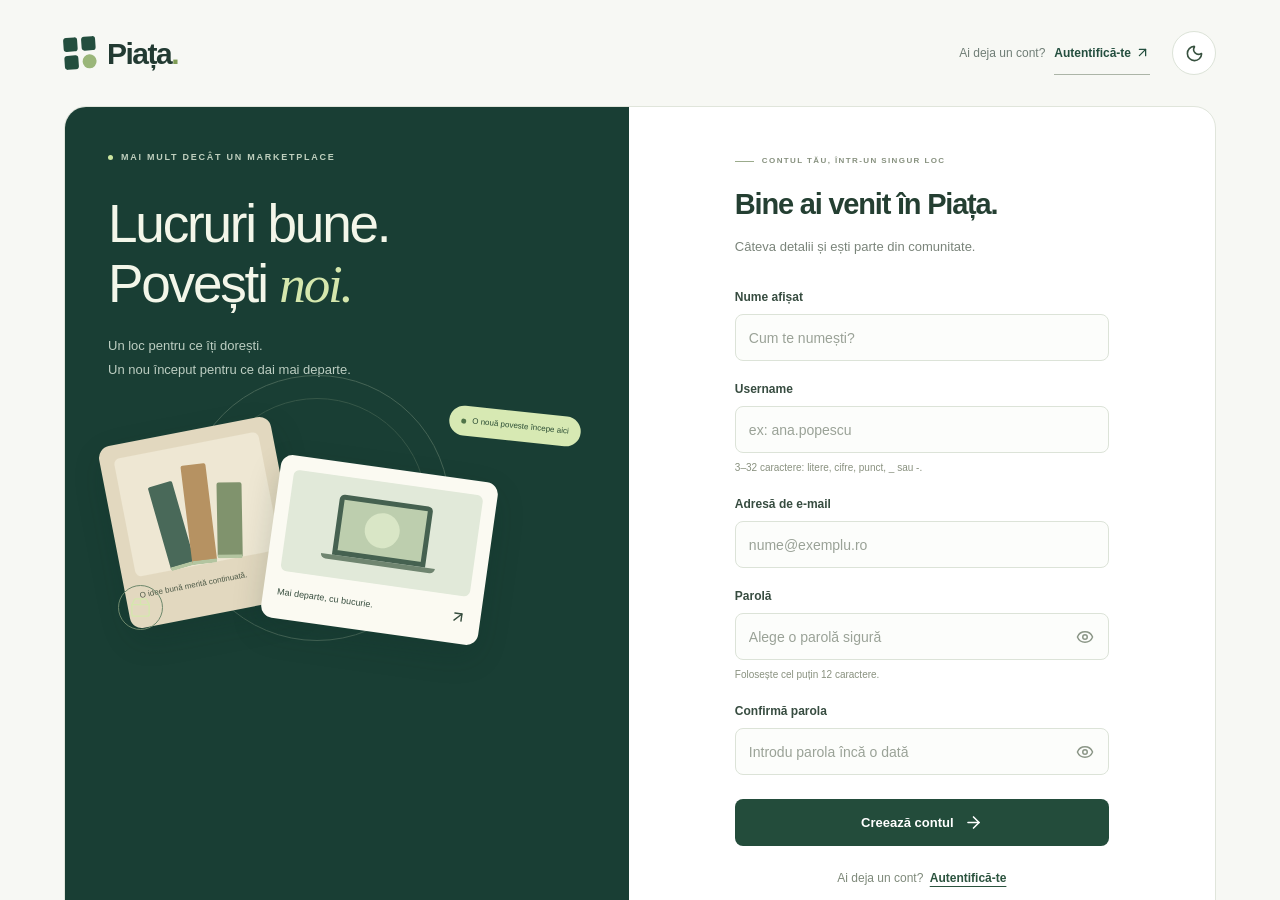
Scenario: authentication screens › registers without sending confirmation, then pre-fills the login username
Type "Ana" into the field labelled "Nume afișat" at (922, 338), box [735,314,1109,361]
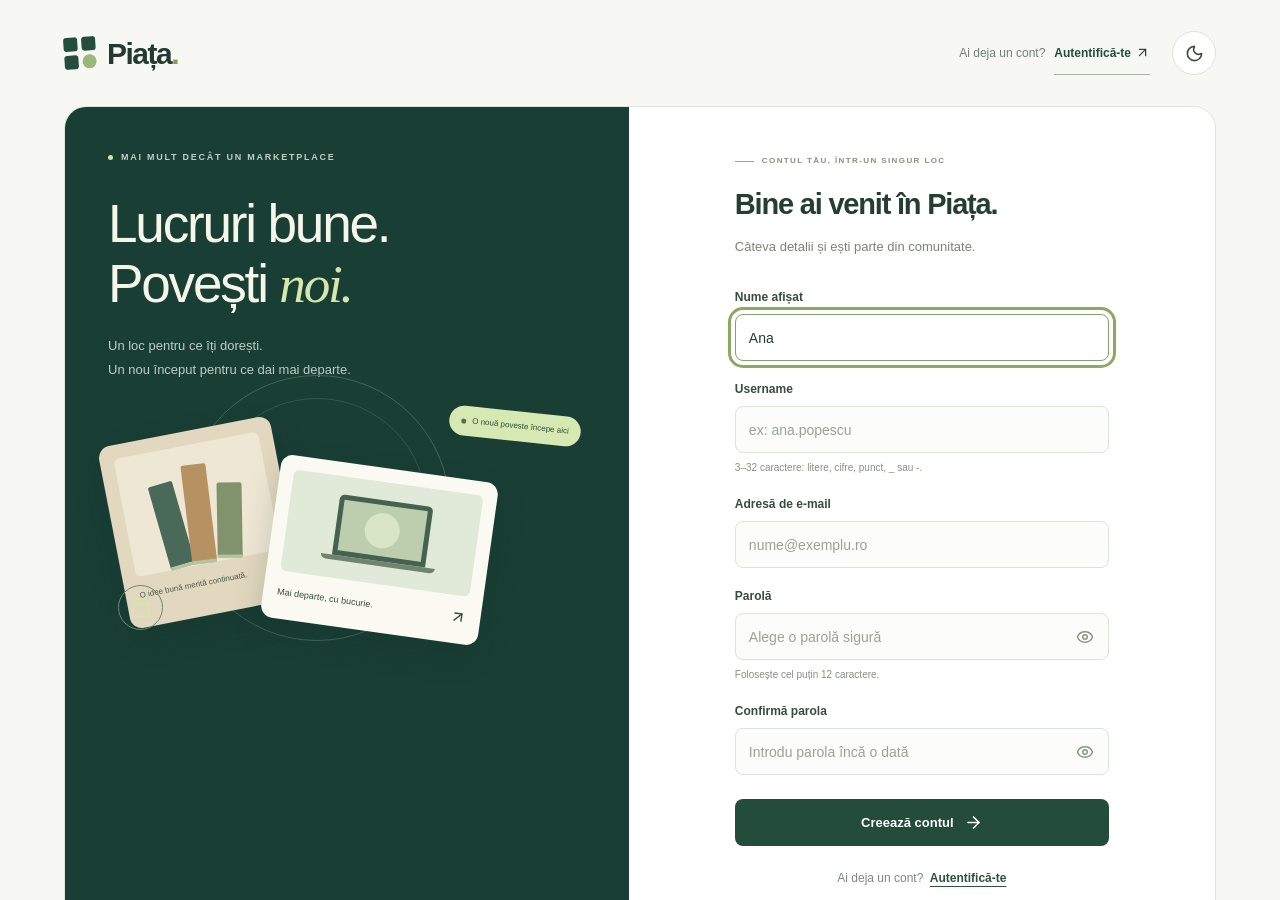
Type "ana.demo" into the field labelled "Username" at (922, 430), box [735,406,1109,453]
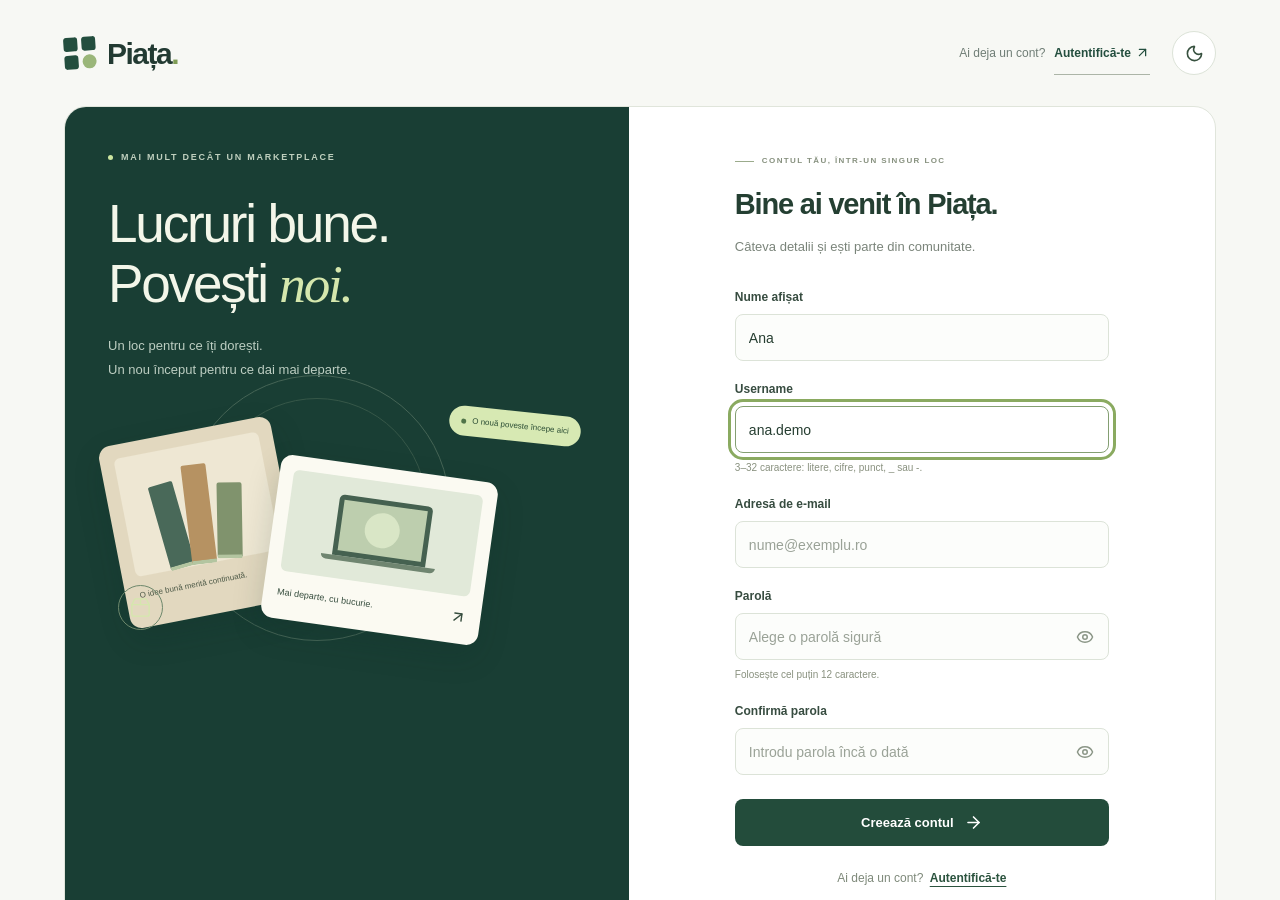
Type "seller@example.test" into the field labelled "Adresă de e-mail" at (922, 545), box [735,521,1109,568]
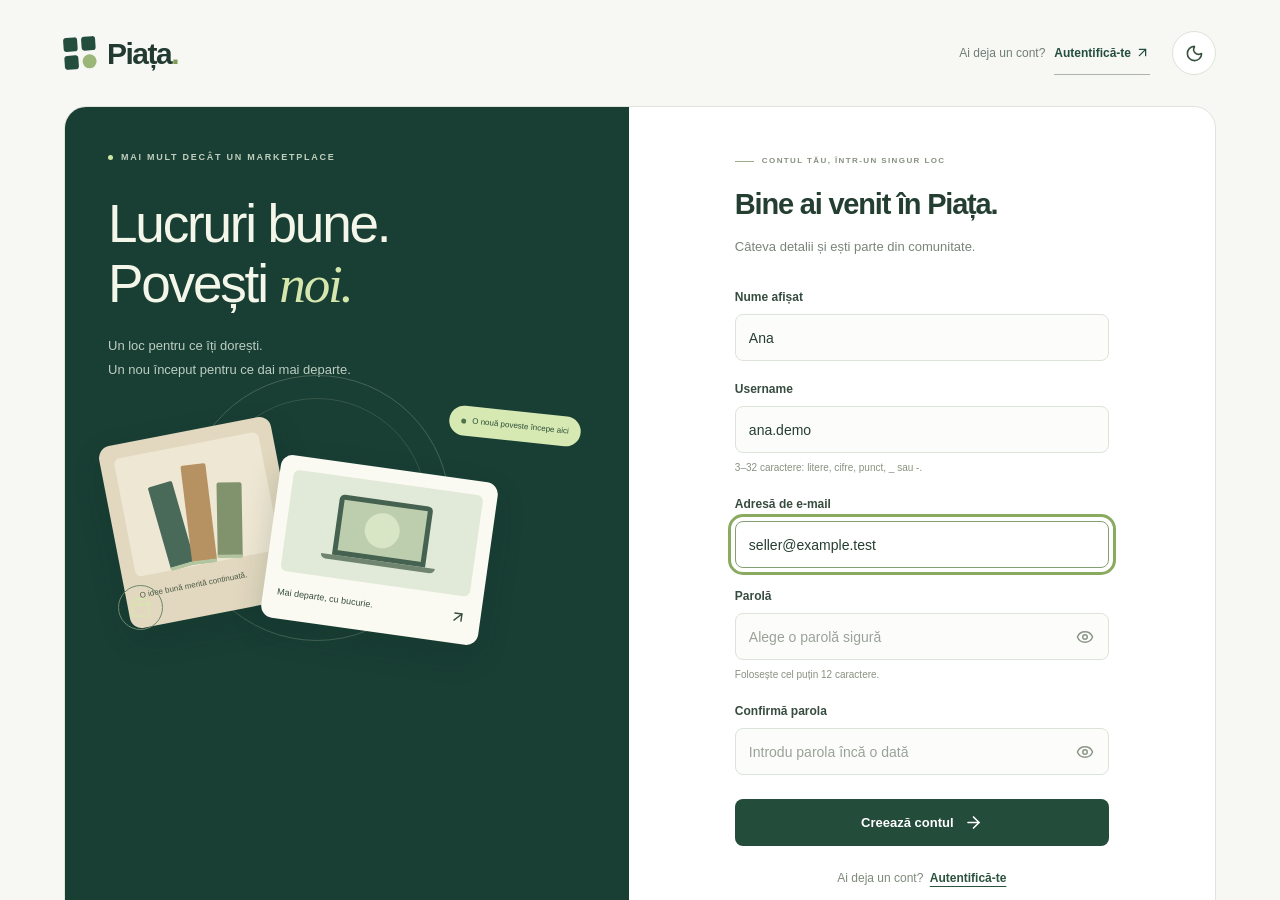
Type "Test-password-2026!" into the password field labelled "Parolă" at (922, 637), box [735,613,1109,660]
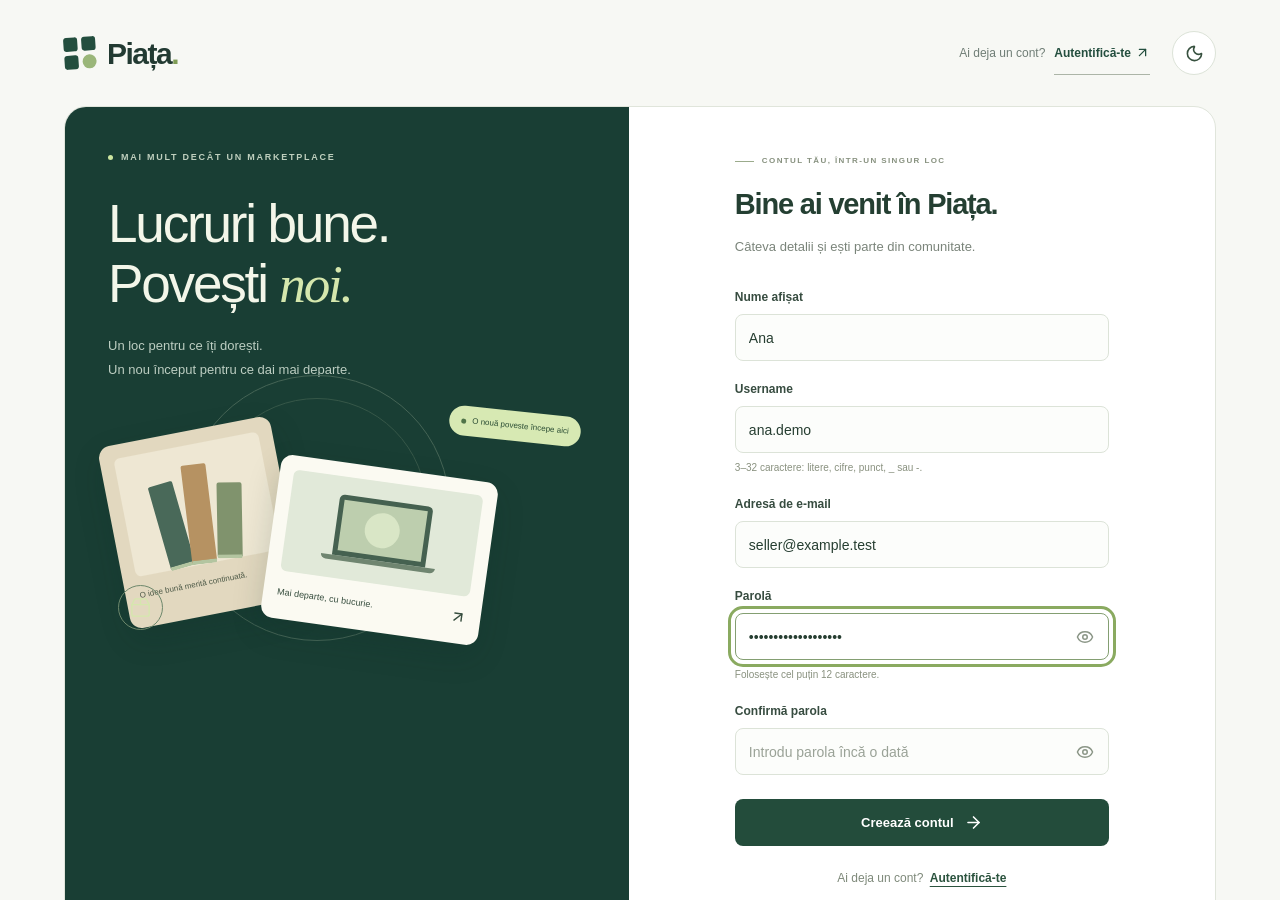
Type "Test-password-2026!" into the password field labelled "Confirmă parola" at (922, 752), box [735,728,1109,775]
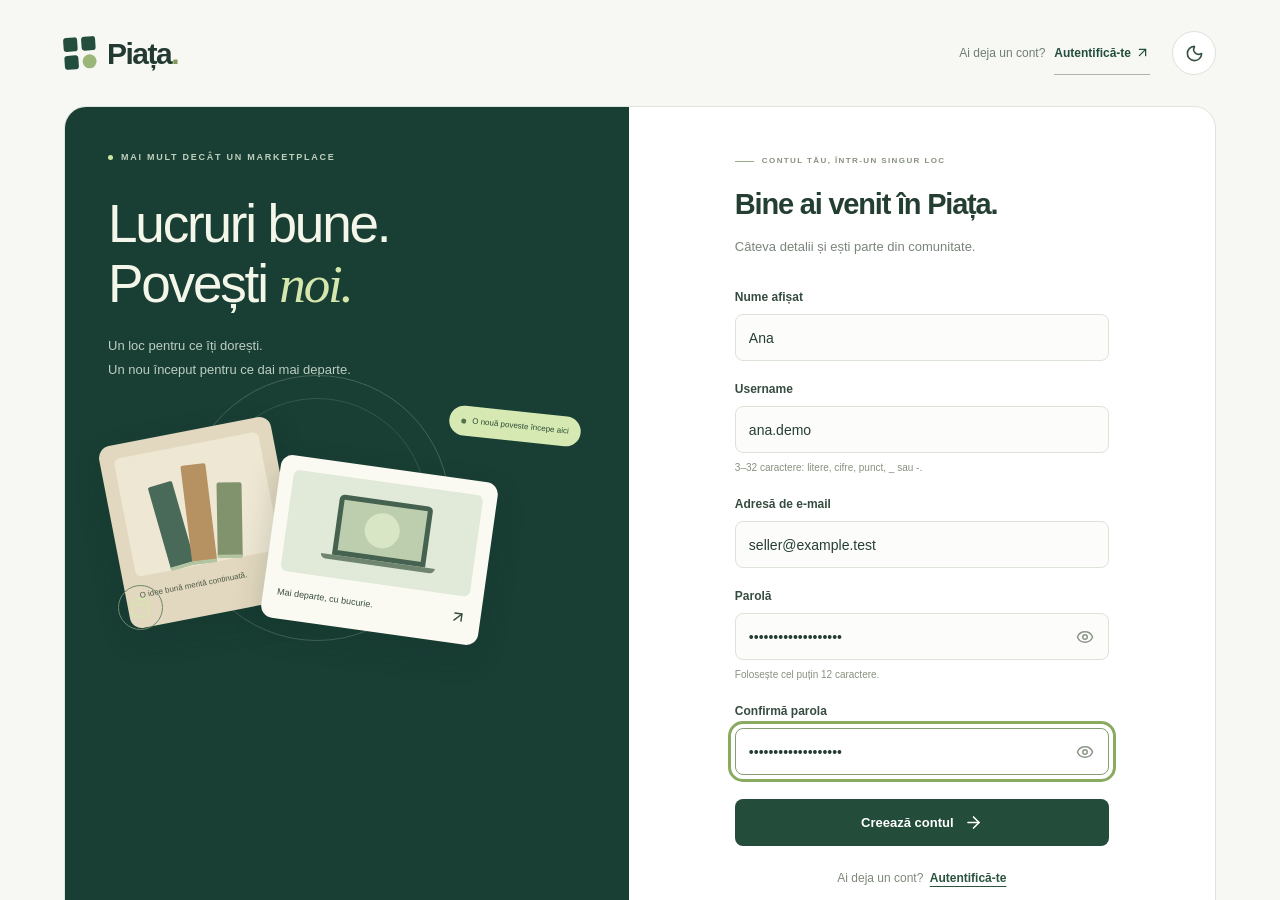
Click the button "Creează contul" at (922, 823), box [735,799,1109,846]
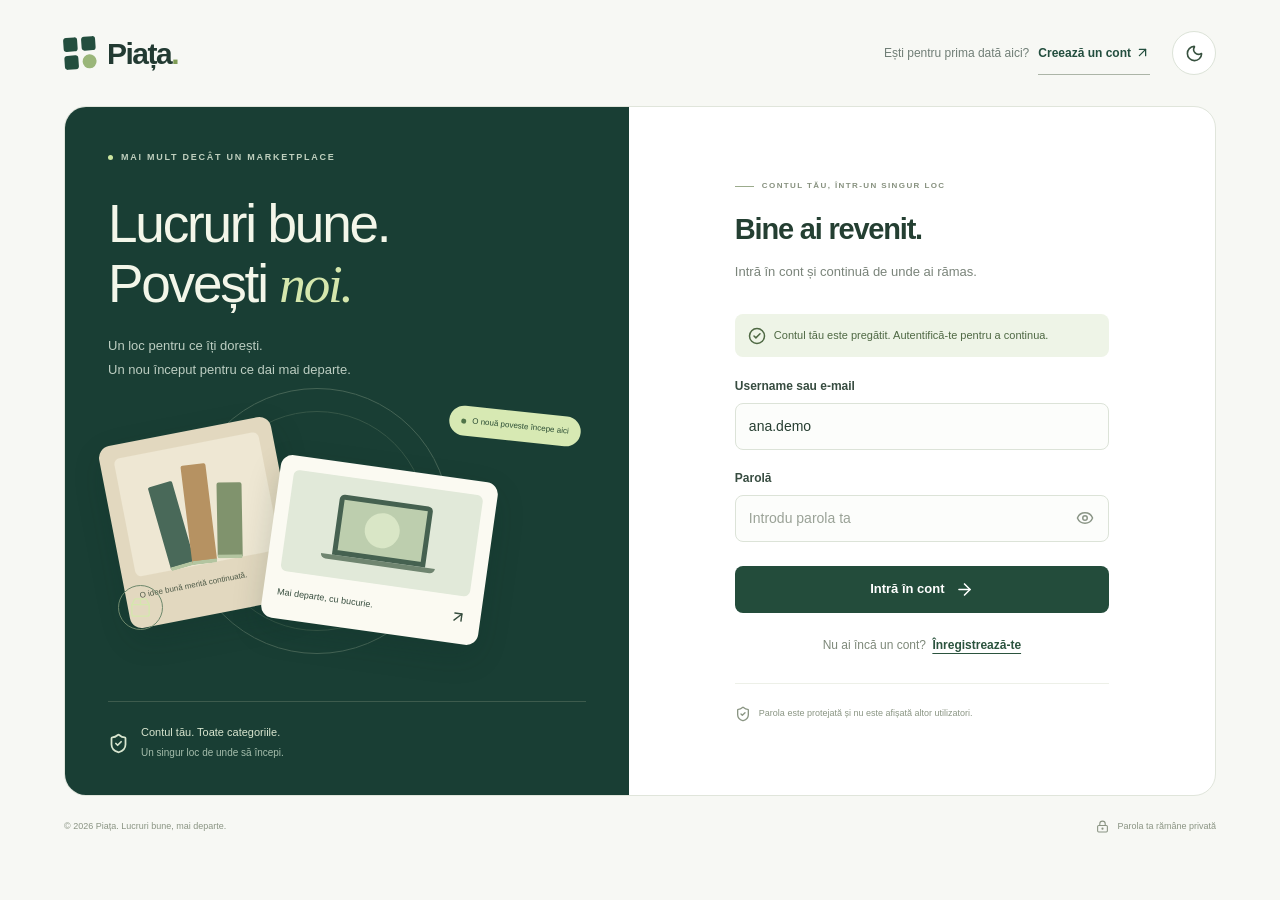
Check: the message shows "Contul tău este pregătit", box [774,328,1048,340]
Check: the field labelled "Username sau e-mail" holds "ana.demo", box [735,402,1109,450]
Check: the password field labelled "Parolă" is empty, box [735,494,1109,542]
